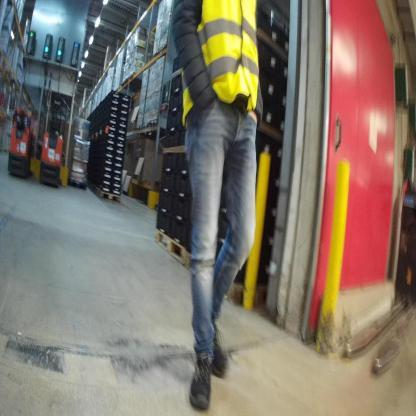pallets: (152, 226, 194, 273), (88, 182, 122, 205)
